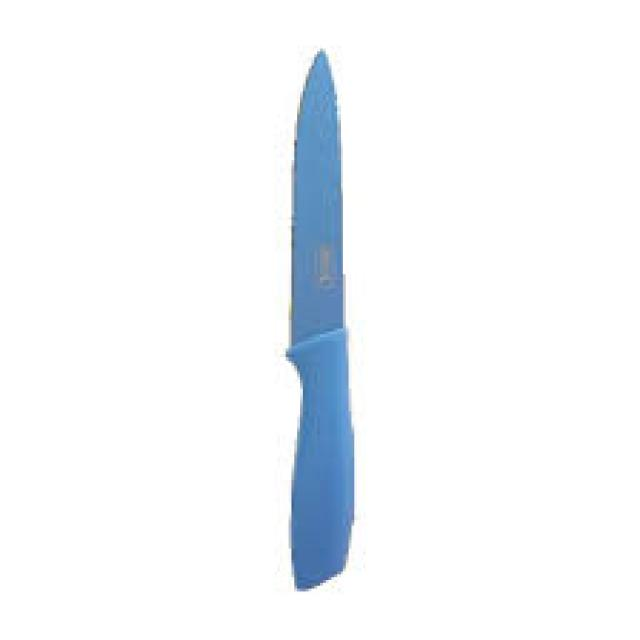knife: (279, 47, 369, 592)
